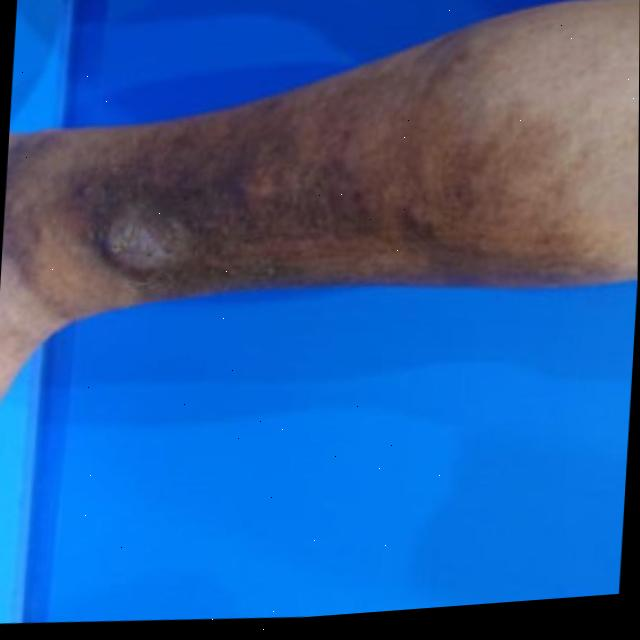Eczema: (94, 7, 627, 329)
